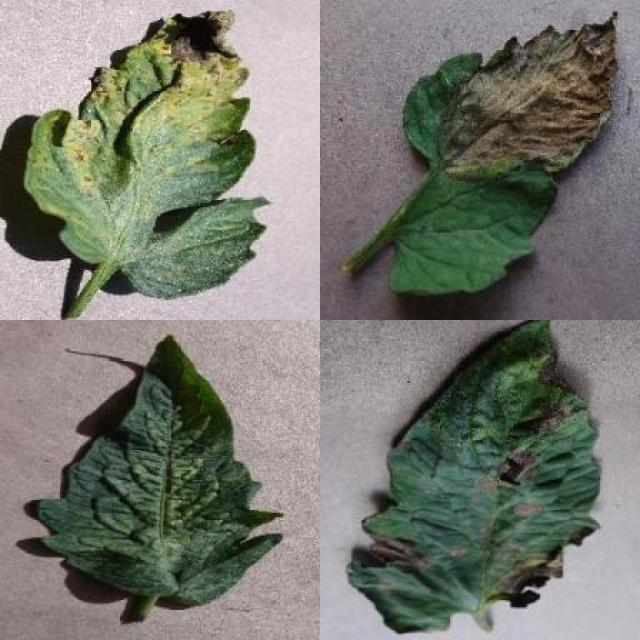Early Blight: (346, 320, 601, 640)
Late Blight: (389, 10, 622, 297)
Septoria: (26, 8, 275, 298)
Spider Mites: (37, 332, 283, 609)
